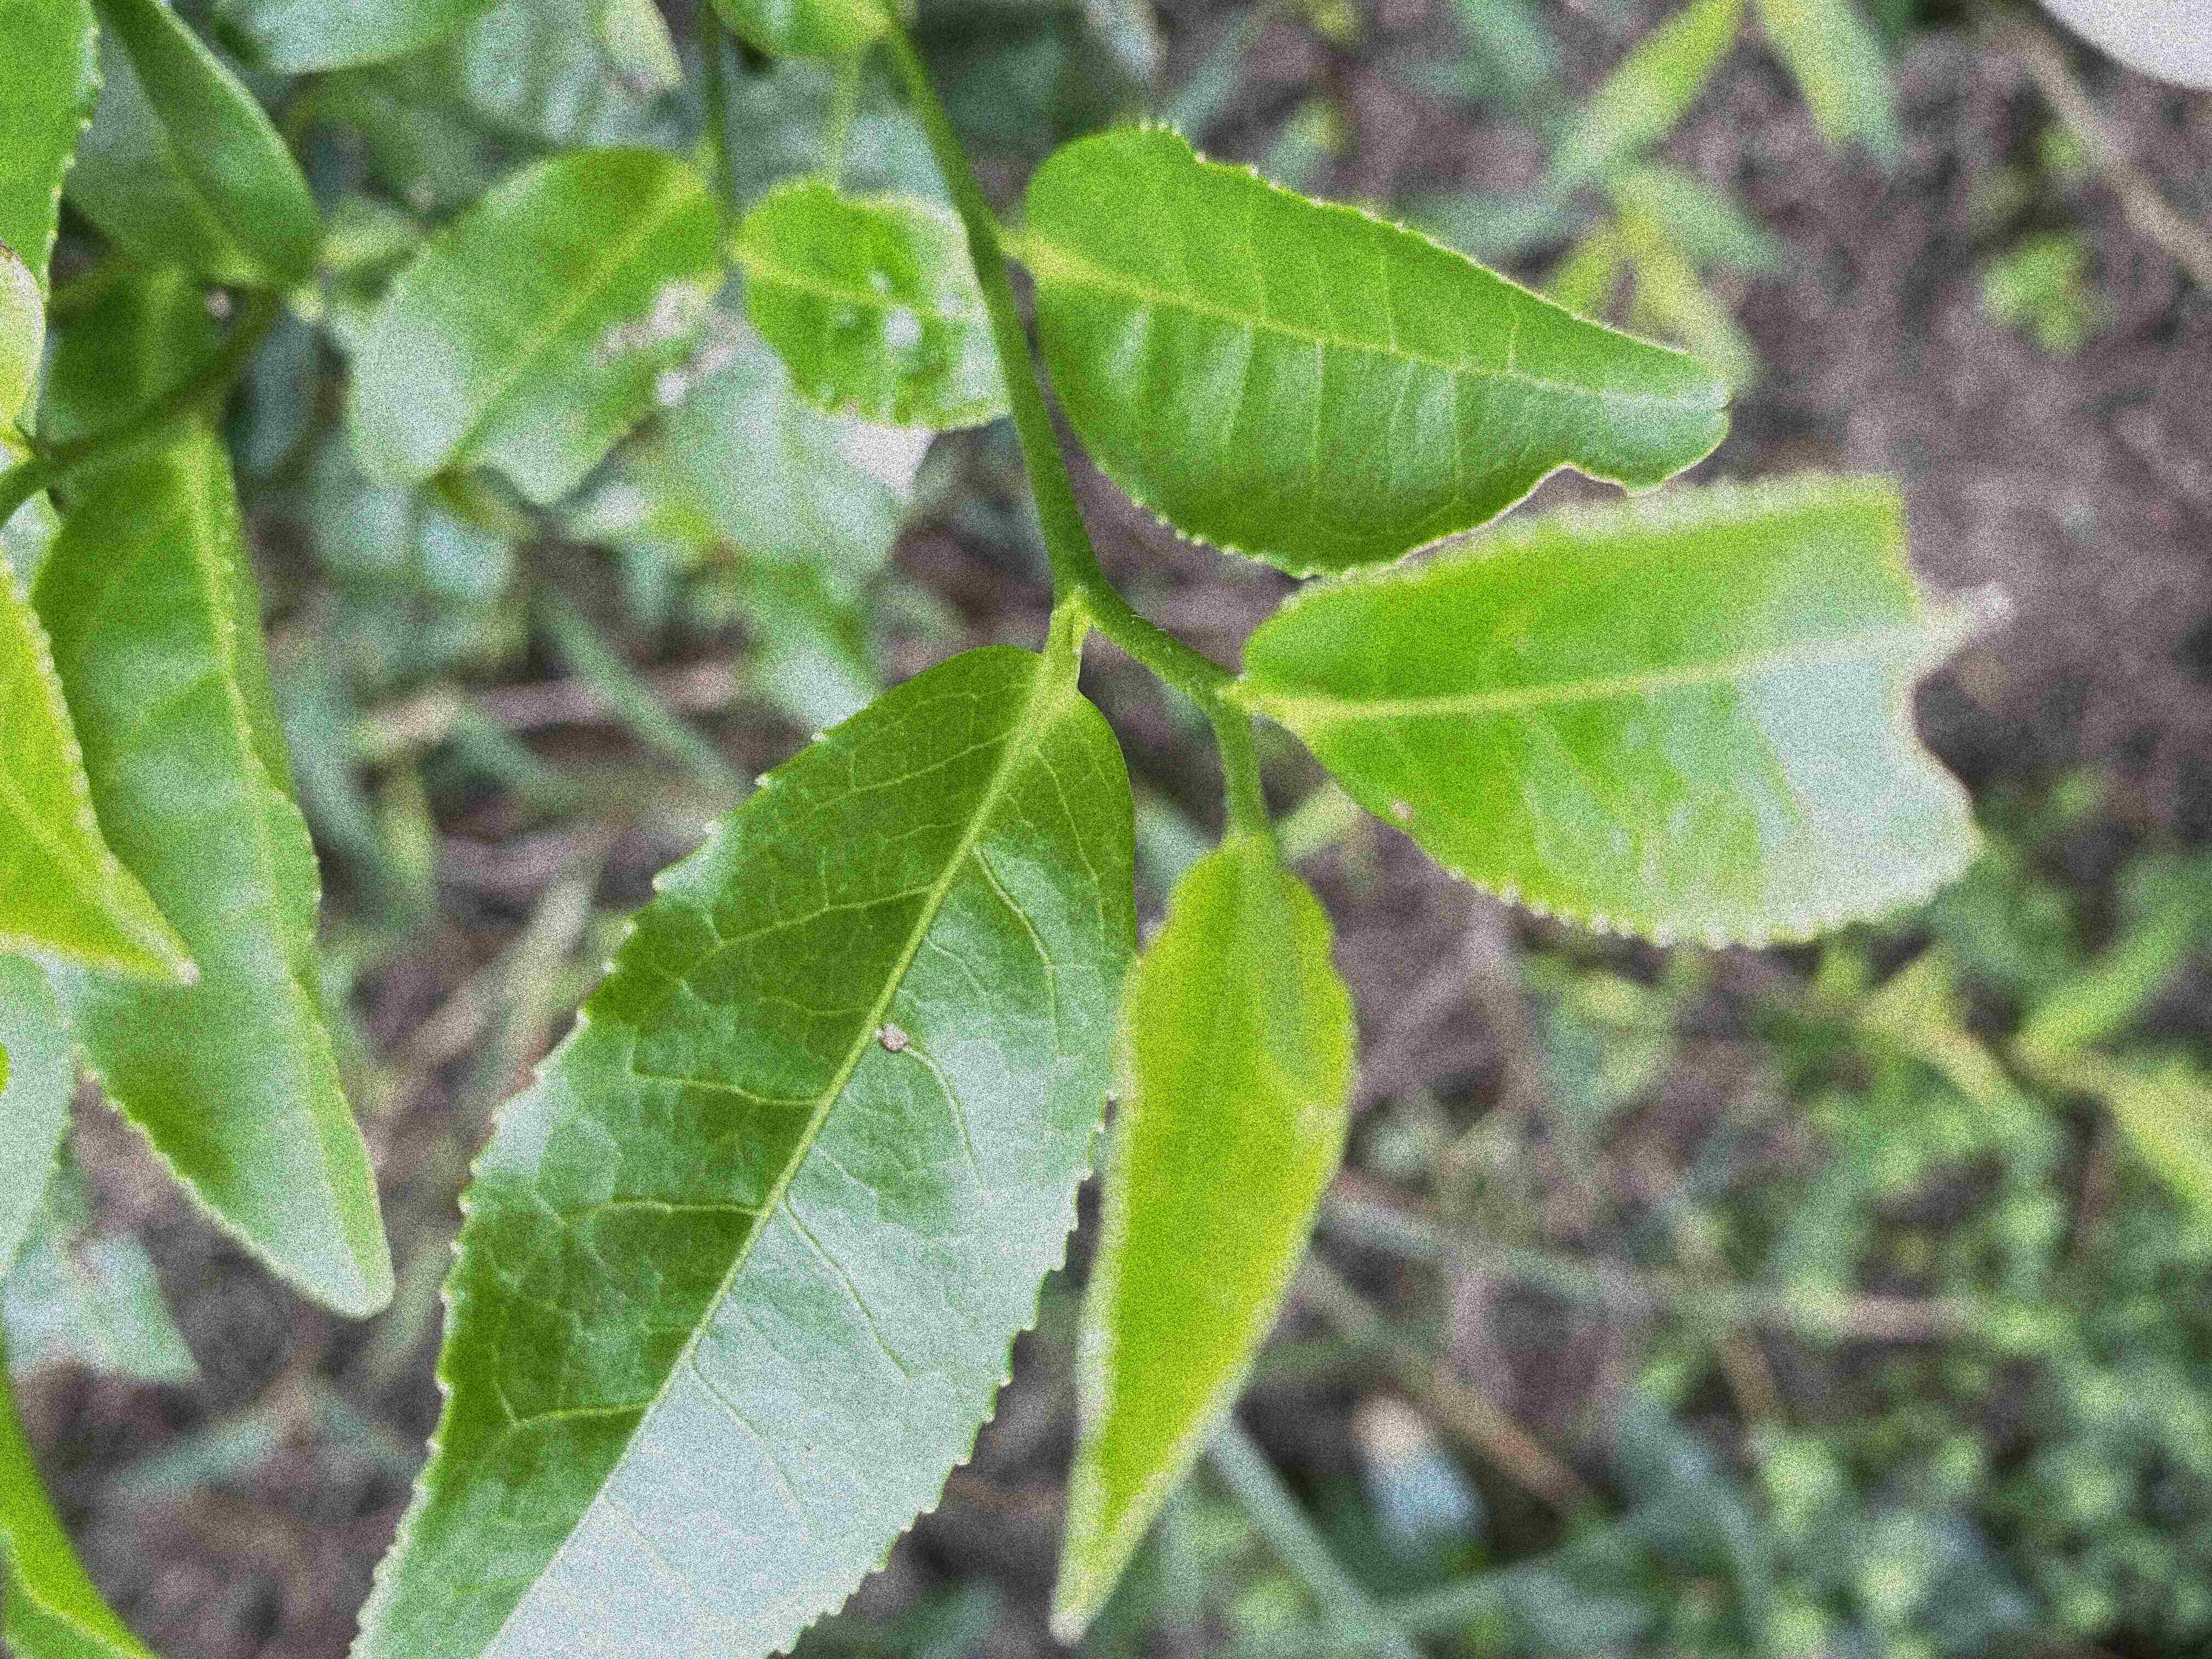chihuo_high: (1238, 467, 2015, 950)
healthy: (1019, 117, 1735, 582), (1054, 847, 1360, 1636)
tanju_low: (340, 645, 1136, 1657)
